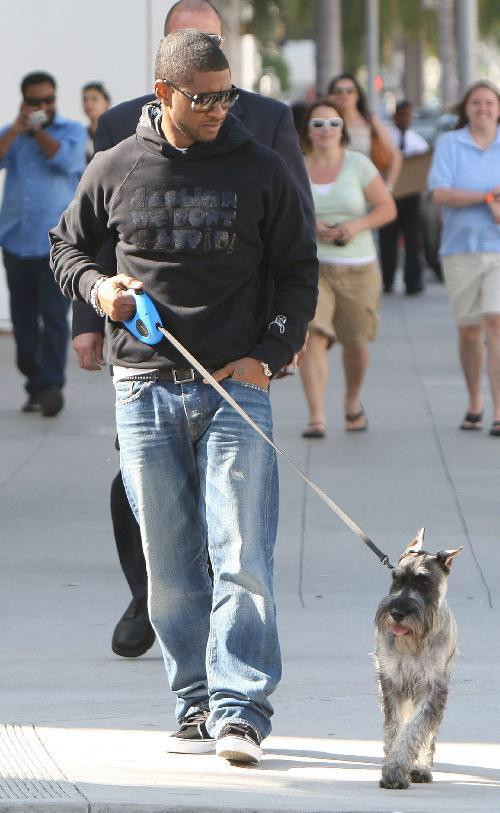person: (48, 33, 320, 767)
